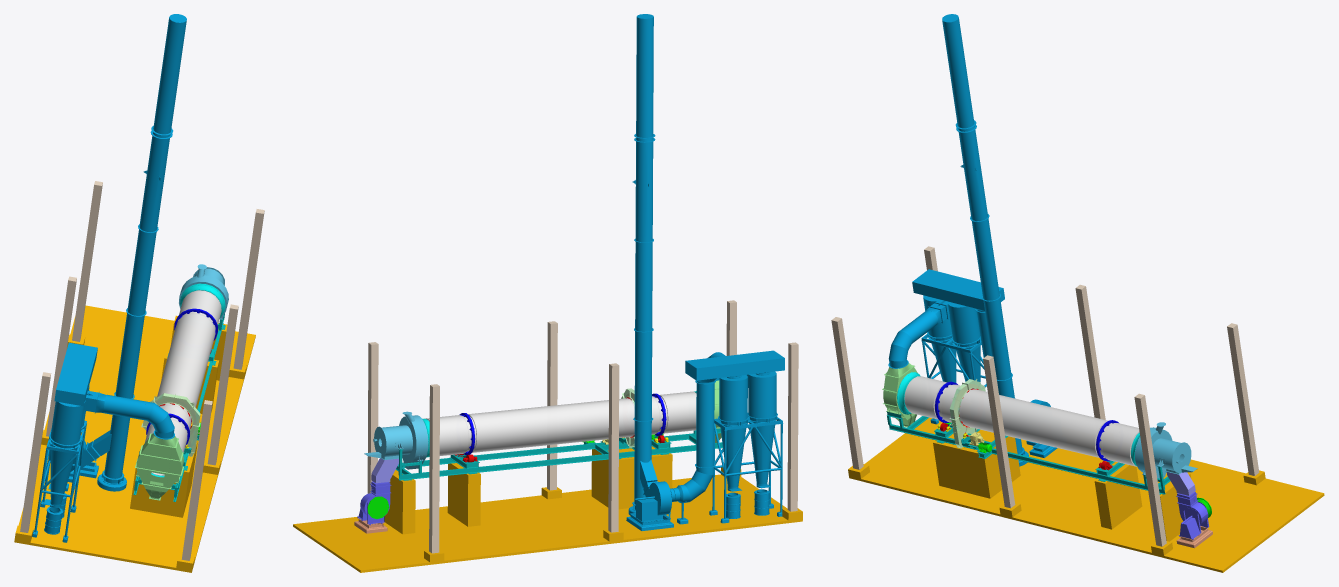
The model's file is industrial_dryer.glb.
The picture shows the model from 3 angles, left to right: view 1: azimuth 30°, elevation 25°; view 2: azimuth 150°, elevation 25°; view 3: azimuth 270°, elevation 25°; orthographic projection. The views are drawn at different scales.
Parts seen in each view (by area): view 1: maintenance_platform, exhaust_outlet, dryer_drum, process_piping, product_outlet, feed_hopper; view 2: maintenance_platform, exhaust_outlet, dryer_drum, process_piping, feed_hopper, supply_fan, air_heater; view 3: maintenance_platform, exhaust_outlet, dryer_drum, process_piping, feed_hopper, supply_fan, product_outlet.
Part boxes in pixels (x1,y1,x2,y2): maintenance_platform: (14,181,264,572); exhaust_outlet: (32,14,186,542); dryer_drum: (141,290,221,475); process_piping: (54,342,174,491); product_outlet: (135,433,184,500); feed_hopper: (179,264,228,319); maintenance_platform: (293,300,802,572); exhaust_outlet: (626,14,783,530); dryer_drum: (425,388,696,462); process_piping: (670,350,784,524); feed_hopper: (364,411,429,469); supply_fan: (354,458,398,533); air_heater: (367,481,391,519); maintenance_platform: (831,246,1324,572); exhaust_outlet: (921,14,1057,466); dryer_drum: (904,376,1139,470); process_piping: (888,269,1015,398); feed_hopper: (1131,422,1197,478); supply_fan: (1166,472,1212,548); product_outlet: (882,363,920,427).
Bounding box in the file's own units: 23.98 × 30.13 × 28.09.
